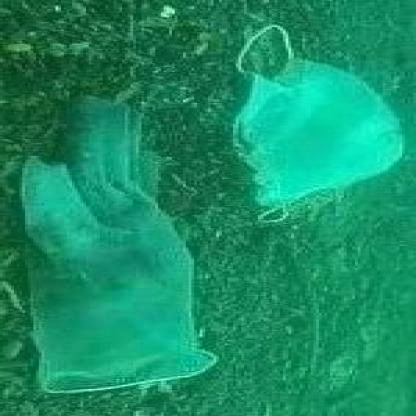Mask: (228, 26, 414, 225)
glove: (6, 97, 224, 394)
